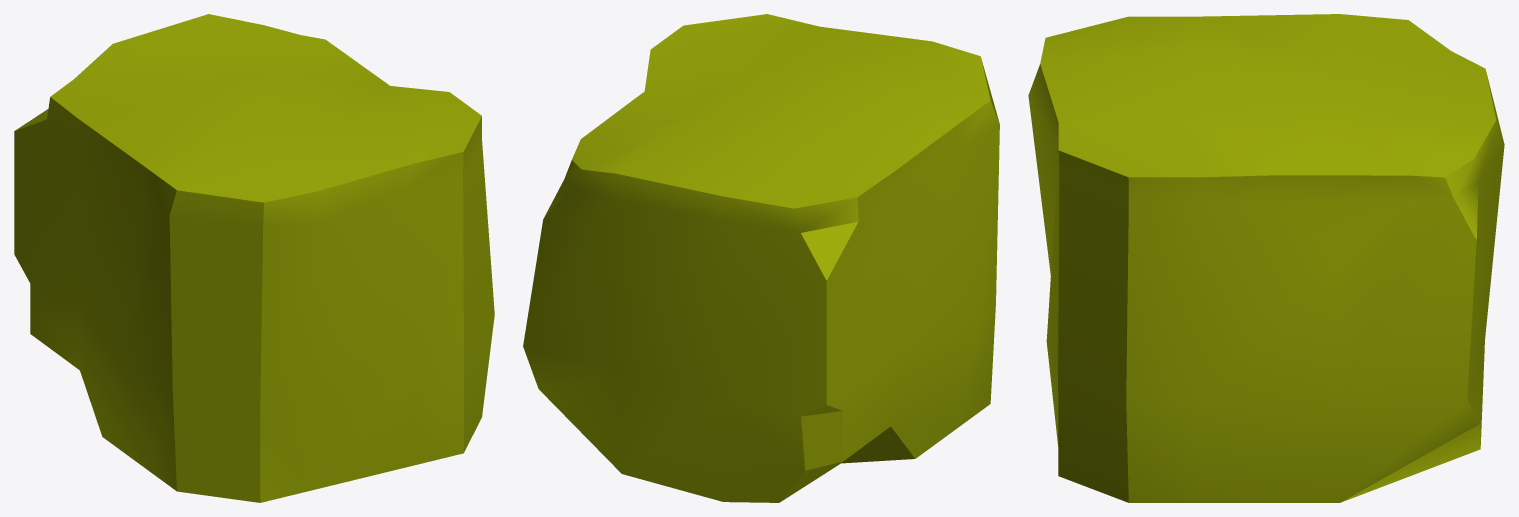
The model's file is Rocks_5.fbx.
The picture shows the model from 3 angles, left to right: view 1: azimuth 30°, elevation 25°; view 2: azimuth 150°, elevation 25°; view 3: azimuth 270°, elevation 25°; orthographic projection. The views are drawn at different scales.
Parts seen in each view (by area): view 1: MESH_Rocks_5; view 2: MESH_Rocks_5; view 3: MESH_Rocks_5.
Part boxes in pixels (x1=…): MESH_Rocks_5: x1=14, y1=14, x2=494, y2=502; MESH_Rocks_5: x1=523, y1=14, x2=999, y2=502; MESH_Rocks_5: x1=1028, y1=14, x2=1504, y2=502.
Size of the model in its own units: 4.73 by 4.34 by 5.34.
